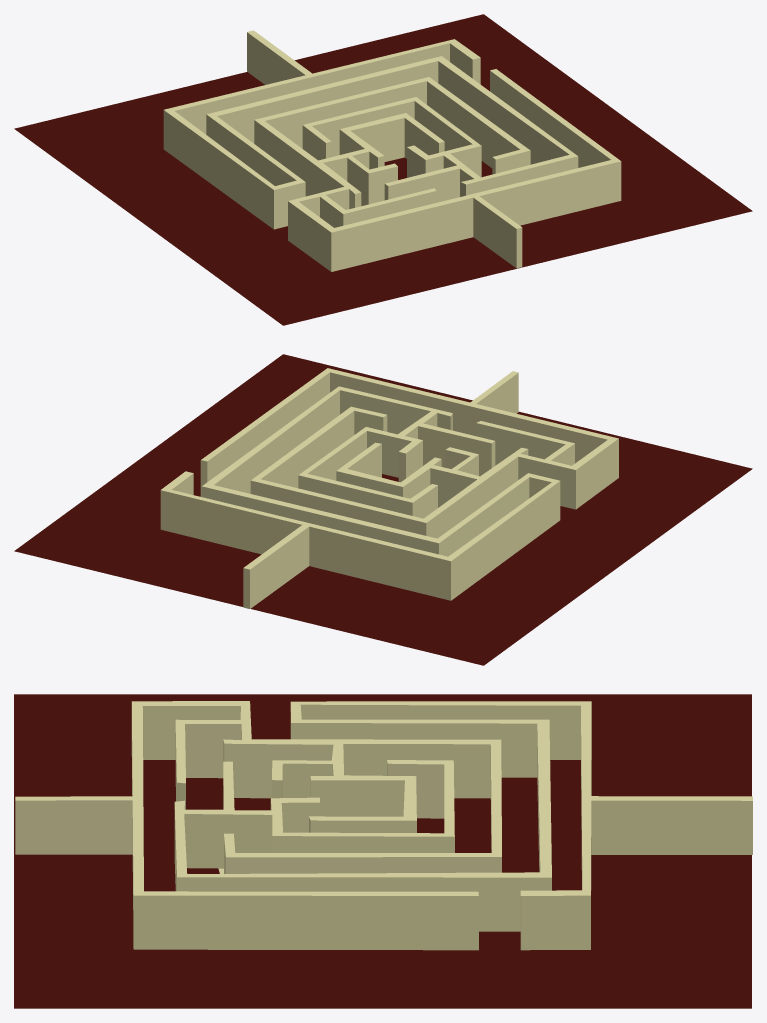
File: Sin_nombre.fbx
3 views of the same model, one above another, from view 1: azimuth 30°, elevation 25°; view 2: azimuth 150°, elevation 25°; view 3: azimuth 270°, elevation 25° (orthographic). The views are drawn at different scales.
Parts seen in each view (by area): view 1: Plane; view 2: Plane; view 3: Plane.
Boxes of the visible parts, x1=… form: Plane: x1=14, y1=14, x2=752, y2=325; Plane: x1=14, y1=354, x2=752, y2=665; Plane: x1=14, y1=694, x2=752, y2=1008.
Bounding box in the file's own units: 607 × 48.77 × 603.
